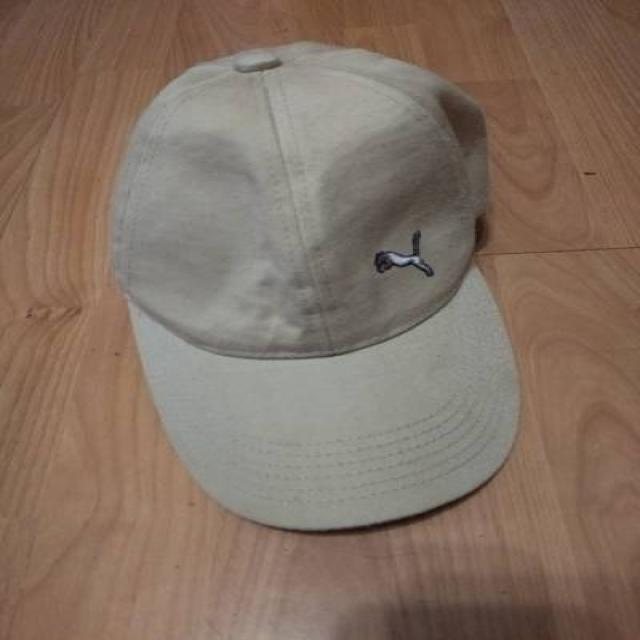non-organik: (93, 31, 545, 548)
